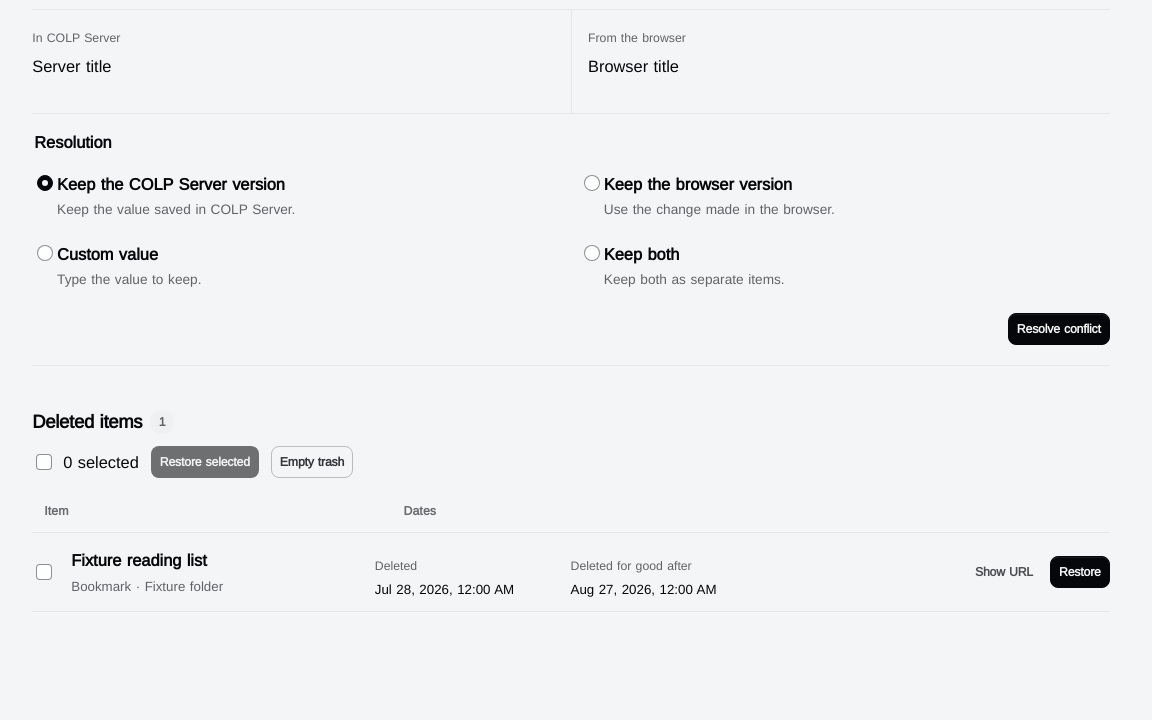
Test: KNS-11 Sync Center trash › keeps a purged restore as a failure, not a delete success
The image size is (1152, 720).
(page scrolled)
Click the button "Restore": [1080, 572] box x1=1050 y1=556 x2=1110 y2=588
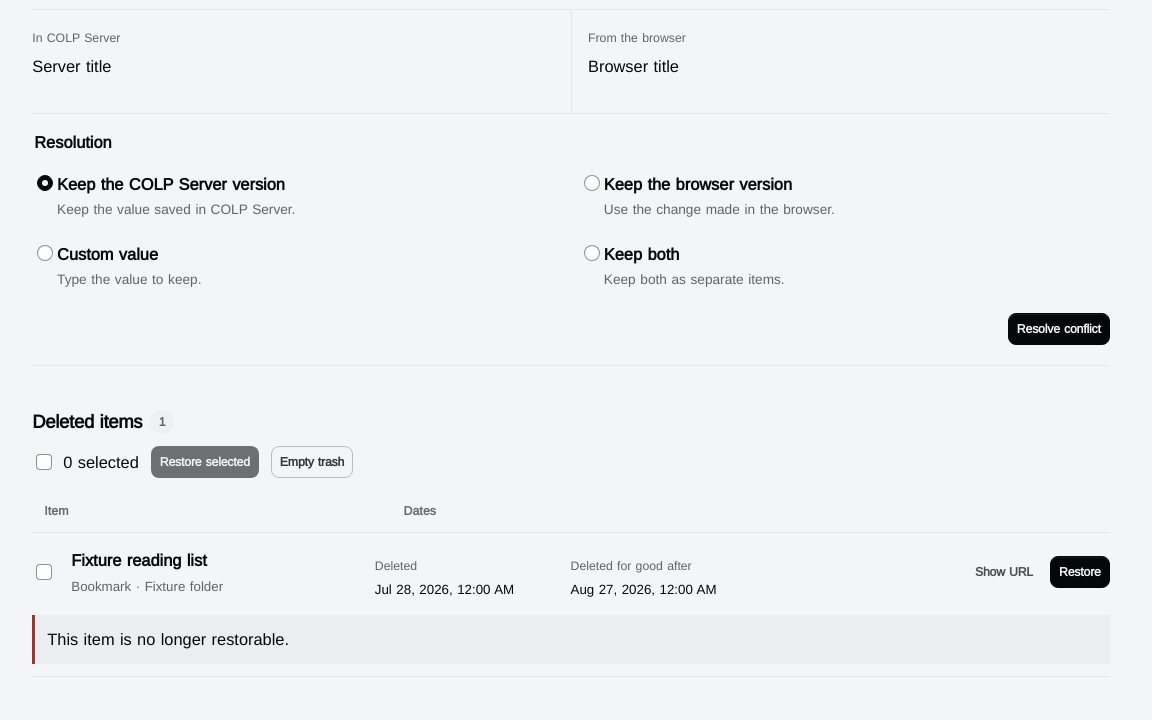
expect the text "Fixture reading list" is shown: met, box x1=71 y1=550 x2=207 y2=570
expect the message "This item is no longer restorable." is shown: met, box x1=32 y1=615 x2=1110 y2=664
